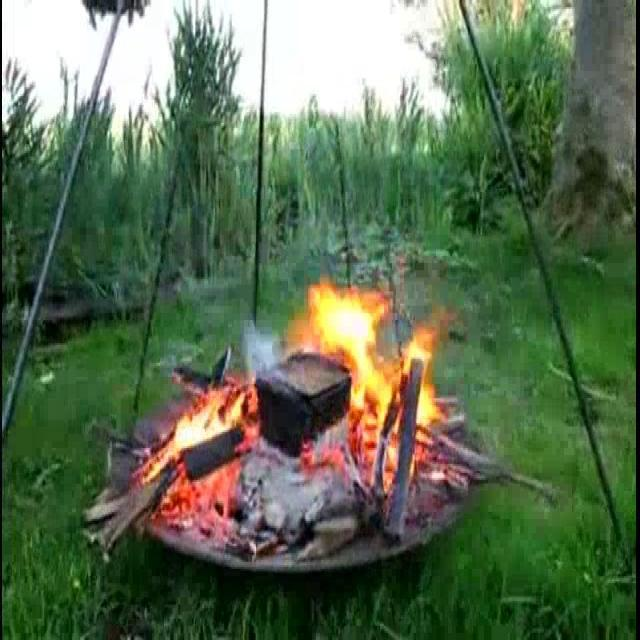Fire: (289, 264, 458, 488), (135, 376, 259, 526)
Smoke: (240, 310, 292, 400)
